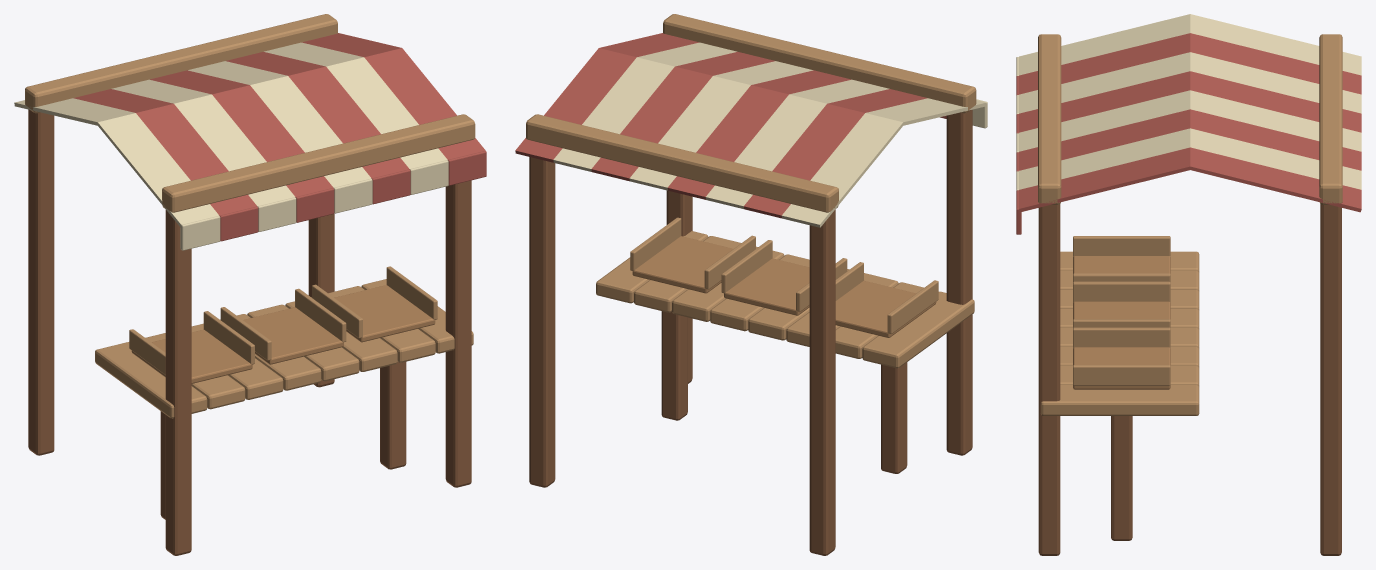
File: market_stall_red_2m.glb
3 views of the same model, side by side, from view 1: azimuth 30°, elevation 25°; view 2: azimuth 150°, elevation 25°; view 3: azimuth 270°, elevation 25° (orthographic). The views are drawn at different scales.
Visible parts, largest first — view 1: market_stall_red_2m; view 2: market_stall_red_2m; view 3: market_stall_red_2m.
Part boxes in pixels (<box>): market_stall_red_2m: <box>14,14,486,555</box>; market_stall_red_2m: <box>515,14,987,555</box>; market_stall_red_2m: <box>1016,14,1361,555</box>.
Bounding box in the file's own units: 2 × 2.4 × 1.92.
